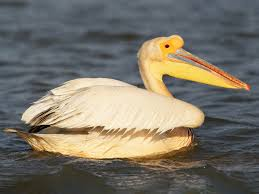pelican: (3, 34, 251, 162)
